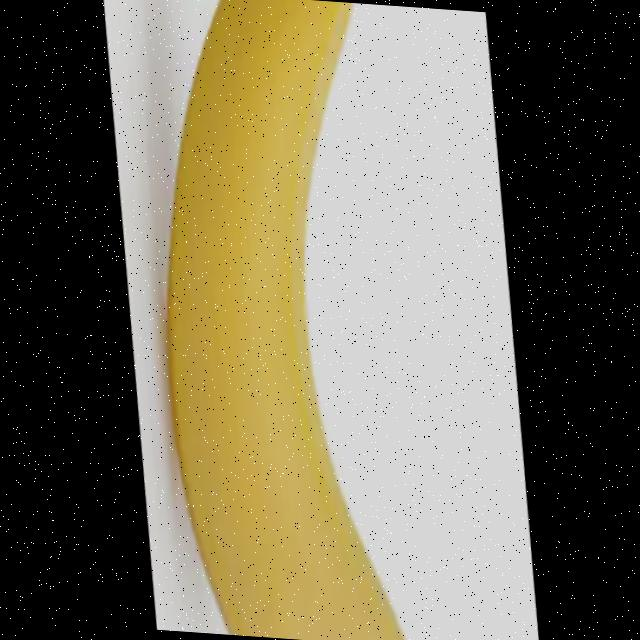banana: (140, 0, 449, 640)
